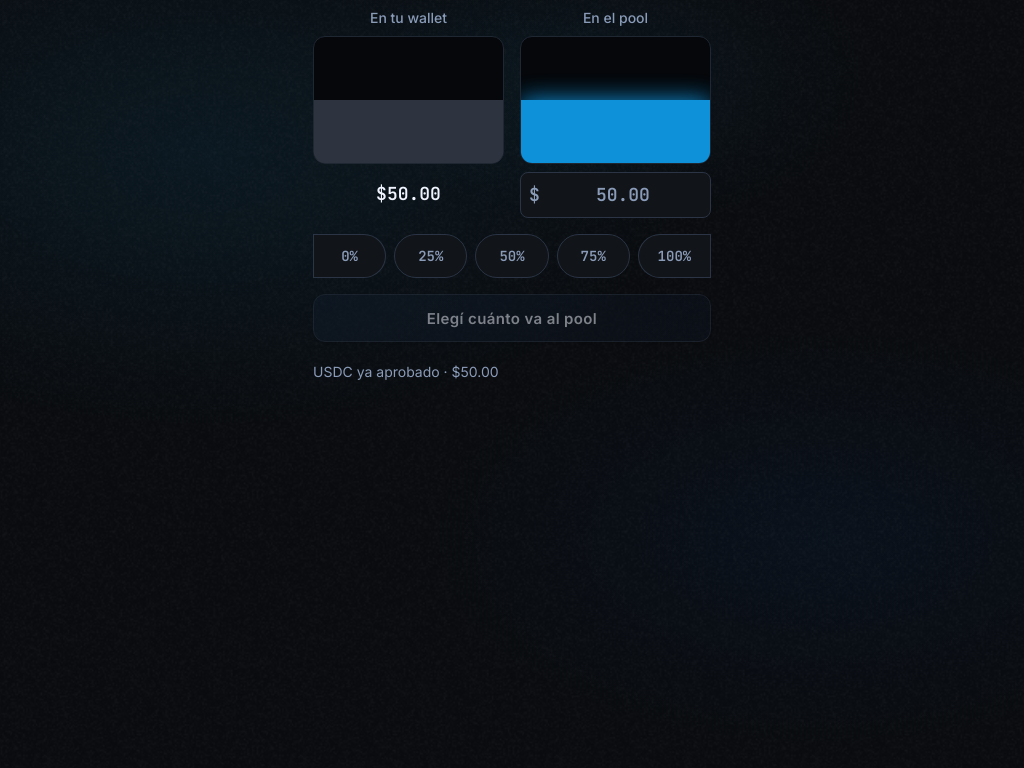
Scenario: MoveScreen › a target below the current position offers a withdrawal
Type "40" into the field named "Cuánto querés tener en el pool" at (623, 195), box left=544, top=173, right=702, bottom=217
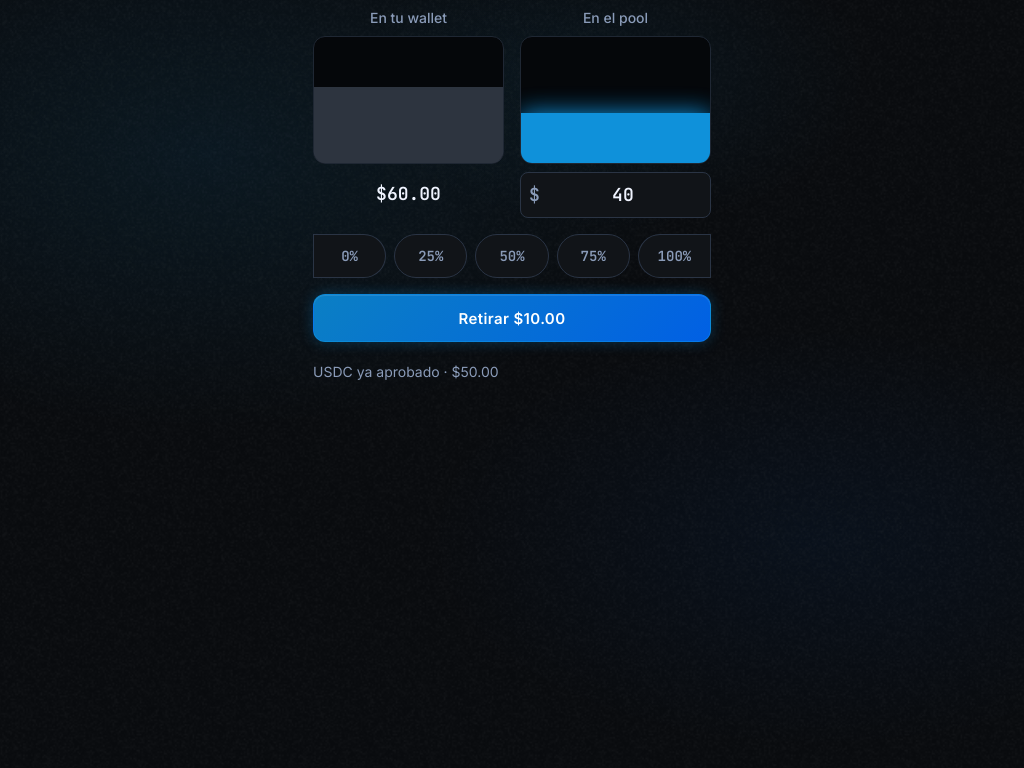
Result: the button "Retirar $10.00" is enabled at left=313, top=294, right=711, bottom=342
